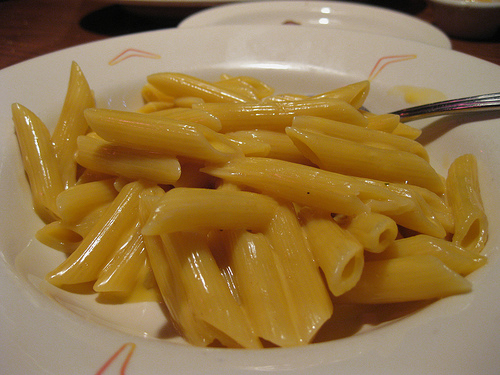macncheese: (16, 57, 488, 348)
